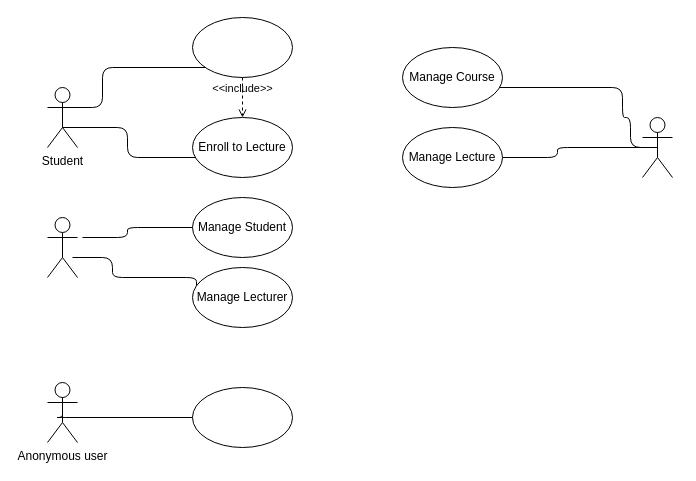
Image size: 696x481. Some labels were removed from this diagram. Here are the shapes that lost their labels. From the top down, the centre of each, then its label:
(x=242, y=47): Enroll to Course
(x=657, y=147): Lecturer
(x=62, y=247): Administrator
(x=242, y=417): Logging to system
